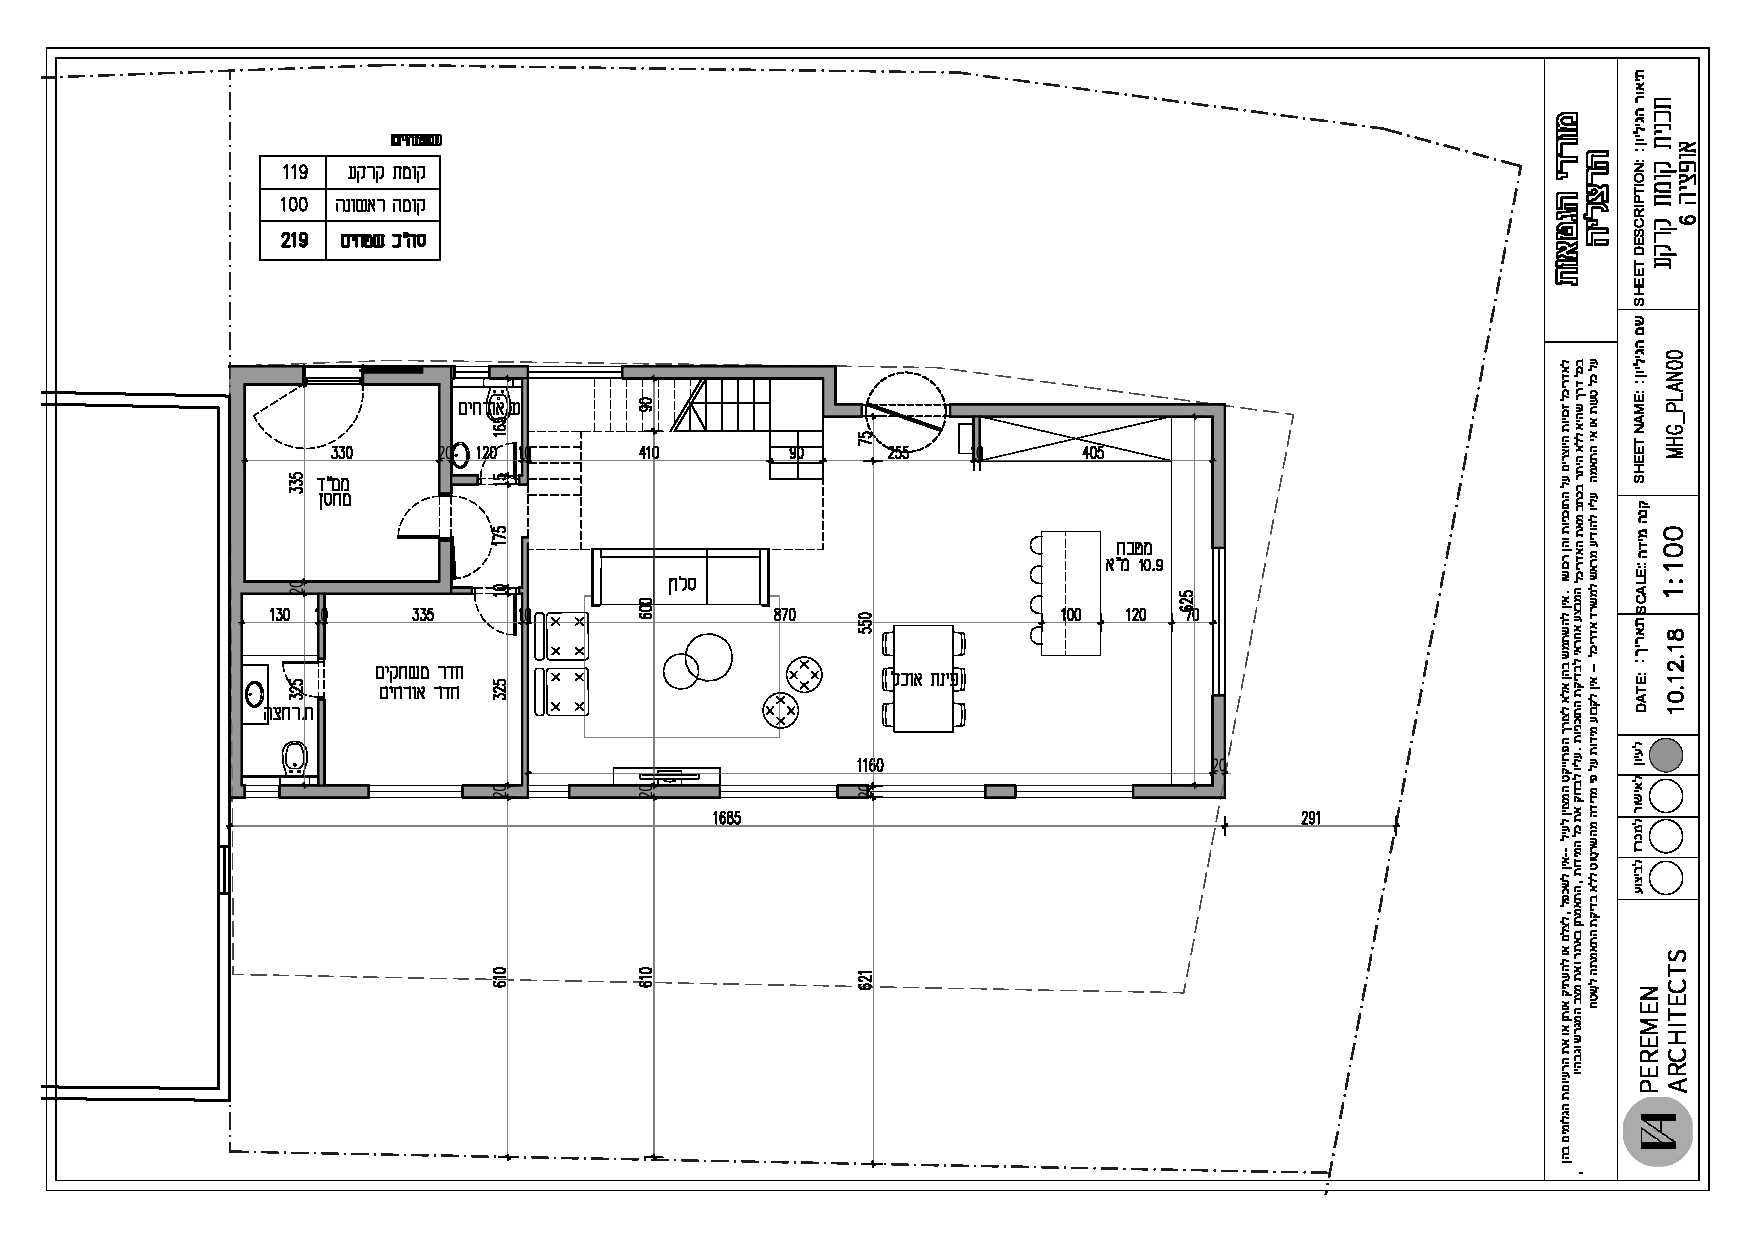door: (213, 350, 256, 823), (951, 385, 1261, 437), (397, 488, 510, 593), (468, 574, 544, 660), (1143, 772, 1256, 821), (280, 655, 334, 709)
window: (1200, 545, 1239, 713), (348, 782, 493, 811), (1000, 777, 1146, 804), (852, 777, 998, 804), (709, 778, 854, 805), (289, 357, 382, 397), (519, 360, 637, 388), (505, 780, 603, 807), (439, 362, 501, 393), (239, 776, 289, 798)
